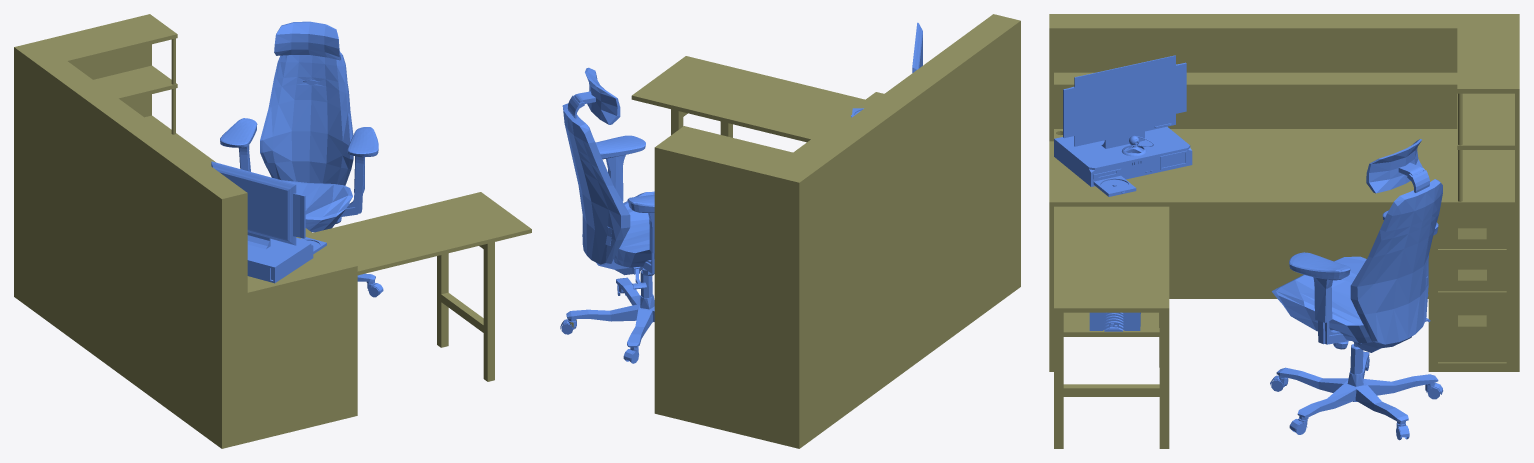
Rendered from desk_with_normals.obj.
3 renders of one model, left to right at view 1: azimuth 30°, elevation 25°; view 2: azimuth 150°, elevation 25°; view 3: azimuth 270°, elevation 25°, orthographic. The views are drawn at different scales.
Visible parts, largest first — view 1: b, a; view 2: b, a; view 3: b, a.
Boxes of the visible parts, <box> form: b: <box>14,14,531,448</box>; a: <box>211,21,383,297</box>; b: <box>570,14,1020,448</box>; a: <box>560,22,922,363</box>; b: <box>1049,14,1519,448</box>; a: <box>1054,55,1443,440</box>.
Size of the model in its own units: 2.16 by 1.66 by 2.49.
